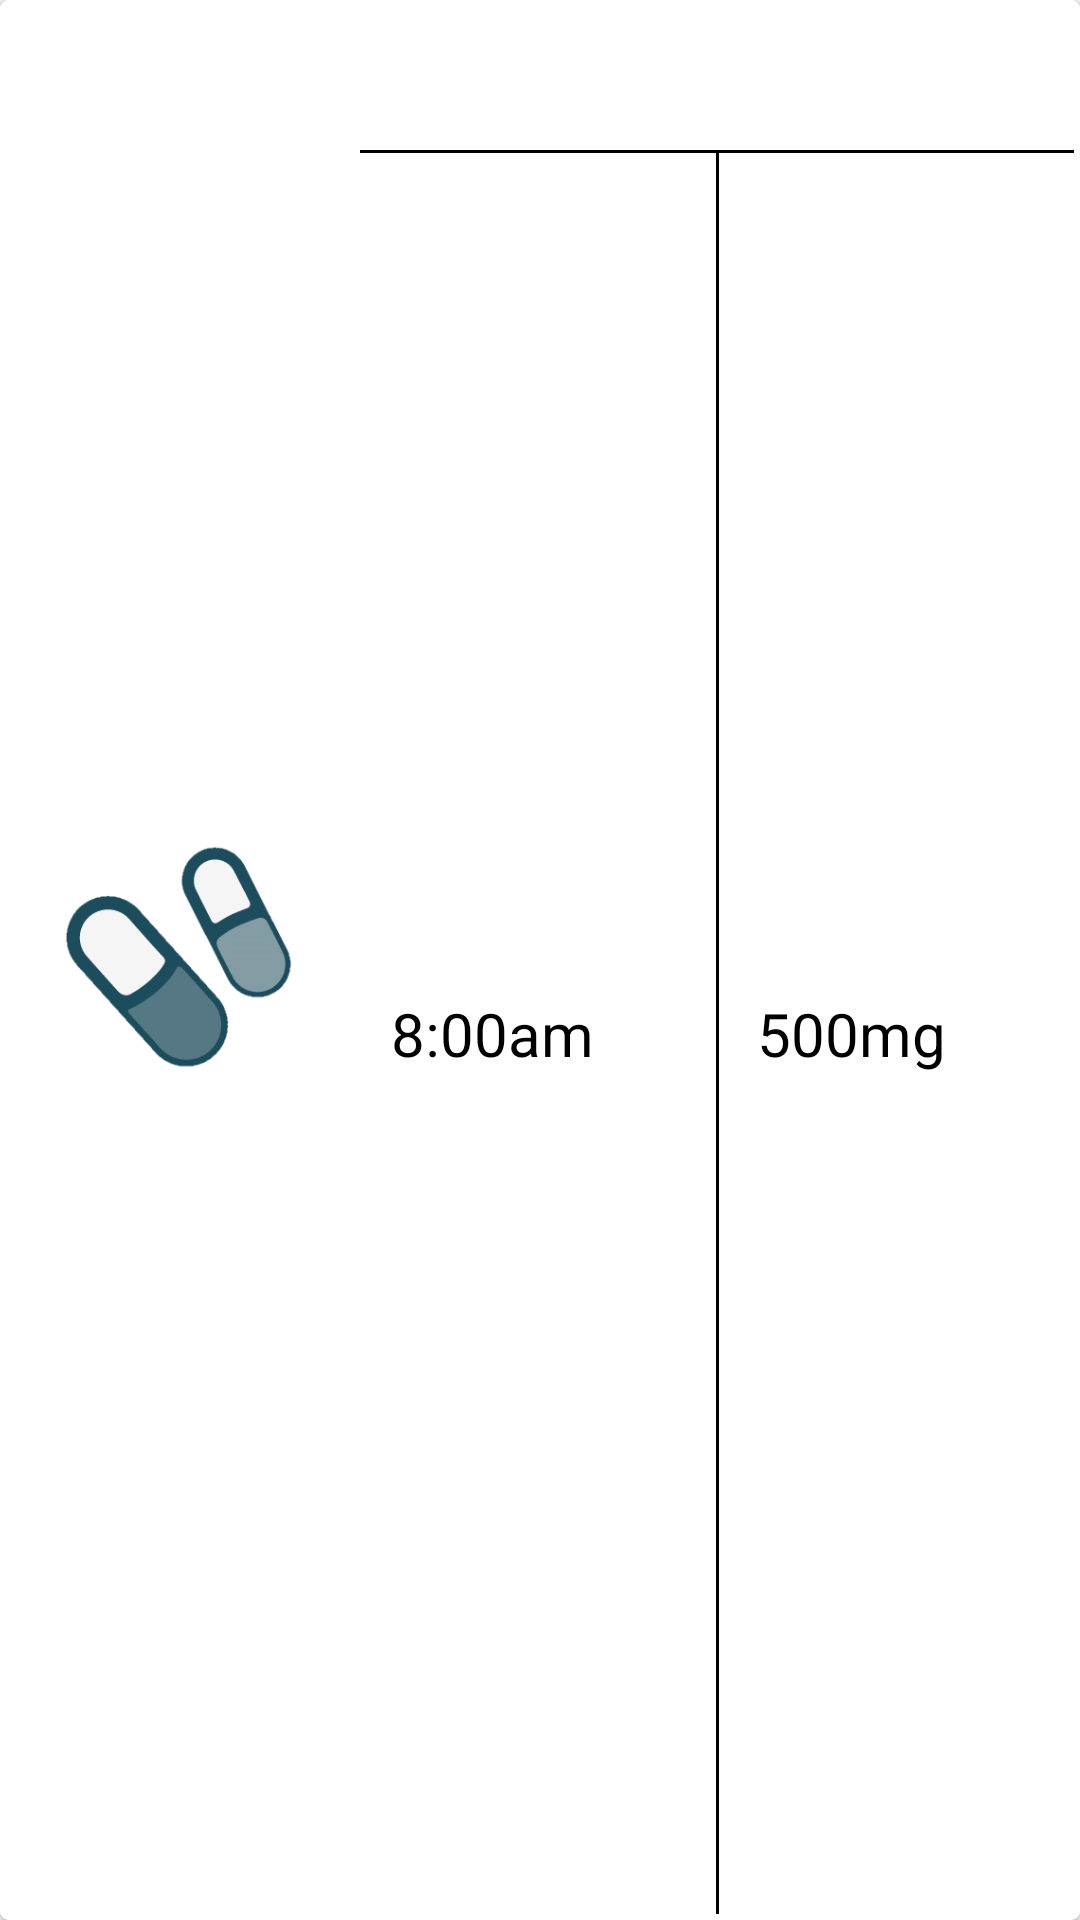

Screen size 1080*1920. Icon name, then its center in pixels as point (x, y):
pills: point (178, 957)
